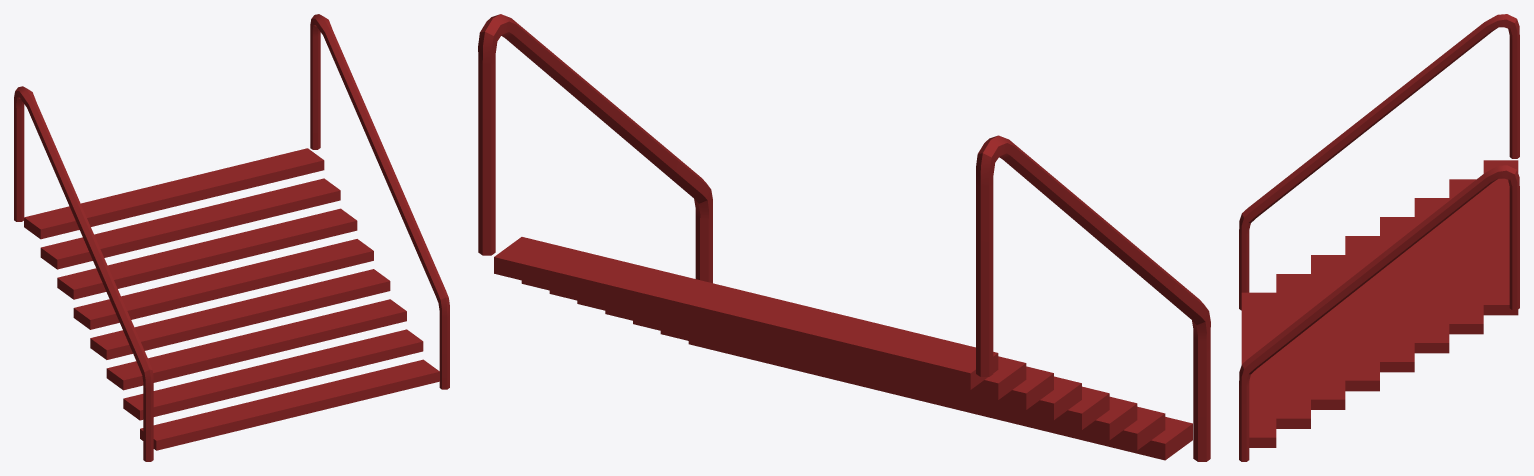
Rendered from Stairs.fbx.
3 views of the same model, side by side, from view 1: azimuth 30°, elevation 25°; view 2: azimuth 150°, elevation 25°; view 3: azimuth 270°, elevation 25° (orthographic). The views are drawn at different scales.
Visible parts, largest first — view 1: Stairs; view 2: Stairs; view 3: Stairs.
Part boxes in pixels (bbox=[...]): Stairs: bbox=[14, 14, 449, 461]; Stairs: bbox=[478, 14, 1210, 461]; Stairs: bbox=[1239, 14, 1519, 461].
Bounding box in the file's own units: 315 × 276 × 238.
